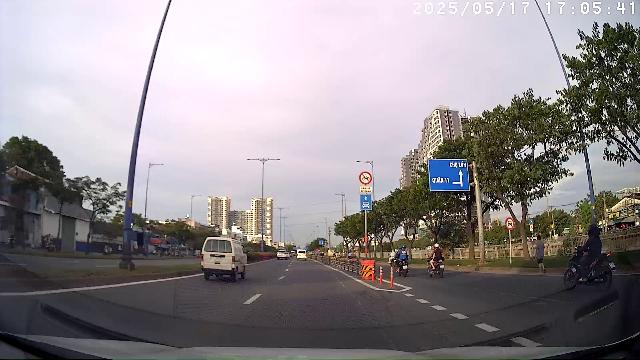103a-cam-oto: (505, 217, 514, 230)
